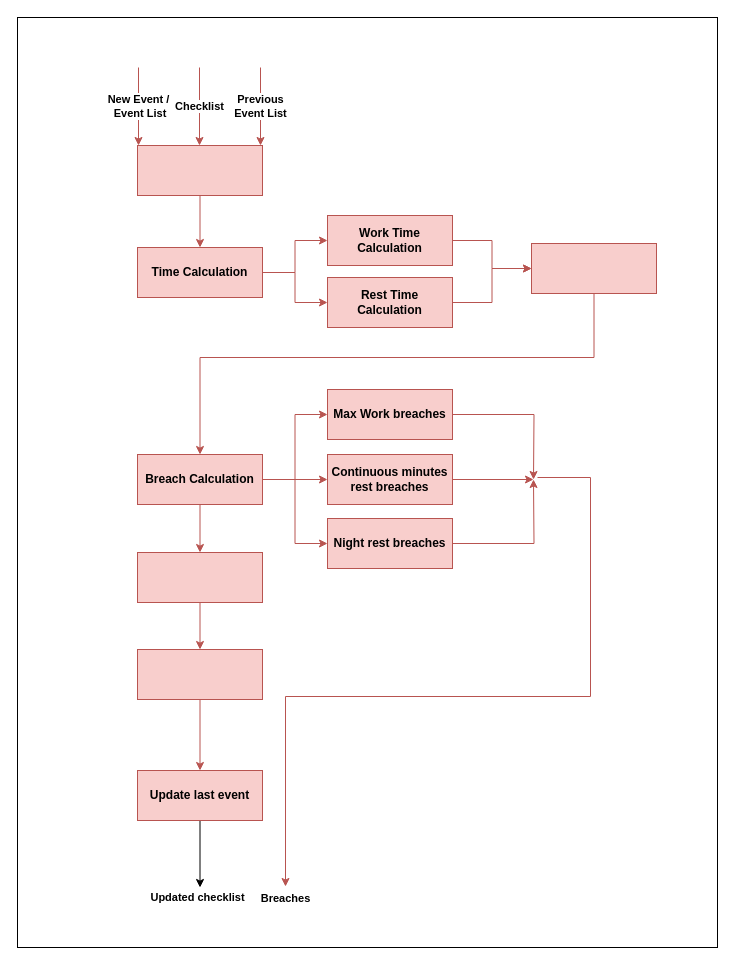
The diagram is 735 pixels wide and 965 high, and some of its shapes have lost their labels. The centre of each missing label's shape, as x and y in pixels:
Add Checklist: point (199, 577)
Cleanup Checklist: point (199, 674)
Event handler: point (199, 170)
Update Checklist: point (593, 268)
